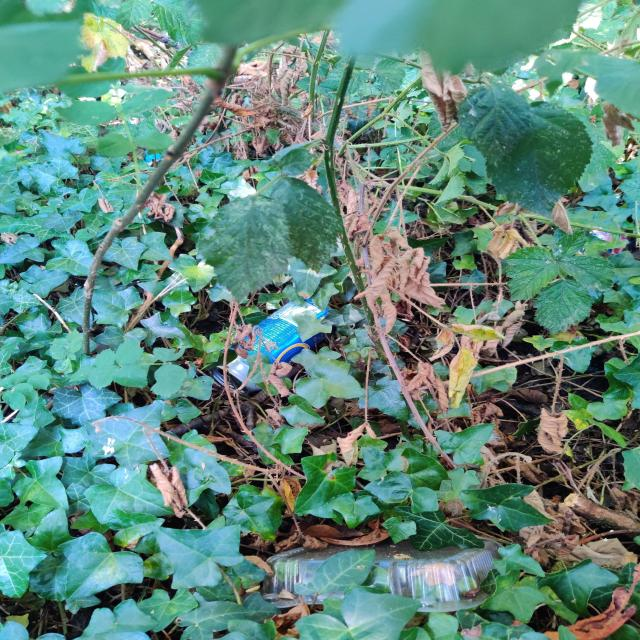litter: (263, 535, 522, 615), (211, 294, 350, 396)
